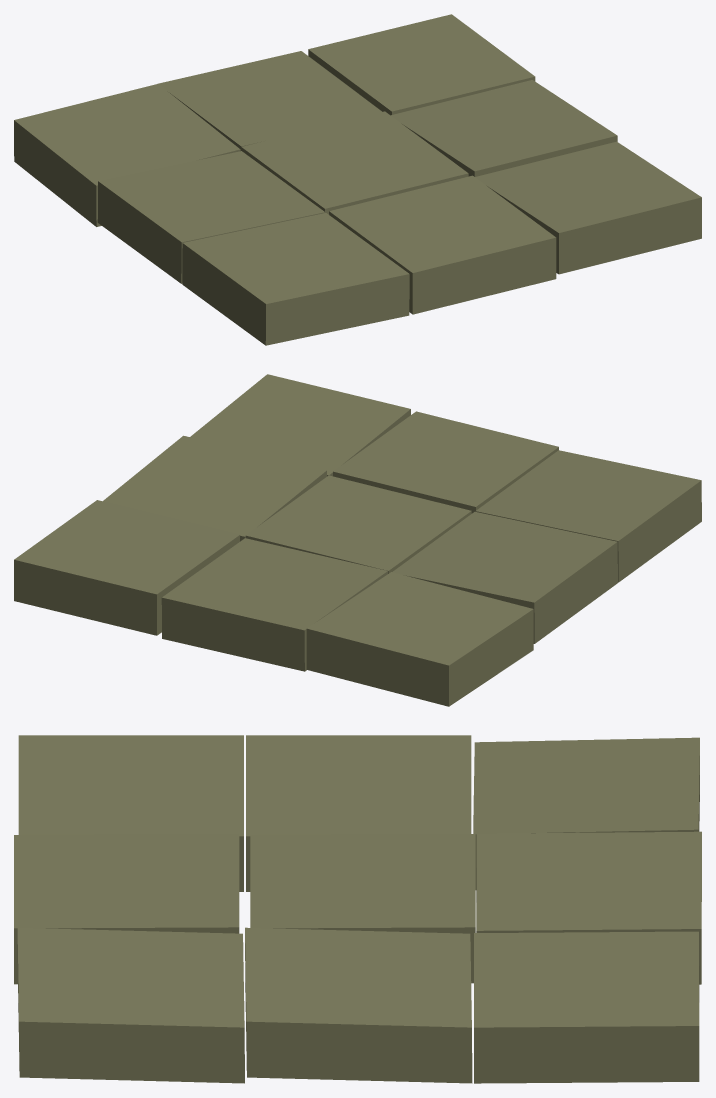
File: ground_tiles3x3.fbx
3 views of the same model, one above another, from view 1: azimuth 30°, elevation 25°; view 2: azimuth 150°, elevation 25°; view 3: azimuth 270°, elevation 25° (orthographic). The views are drawn at different scales.
Parts seen in each view (by area): view 1: quad31, quad32, quad33, quad11, quad21, quad13, quad22, quad23, quad12; view 2: quad11, quad13, quad12, quad21, quad31, quad32, quad23, quad22, quad33; view 3: quad13, quad33, quad23, quad21, quad31, quad12, quad22, quad32, quad11.
Boxes of the visible parts, left/top/right/bottom form: quad31: left=182, top=213, right=409, bottom=345; quad32: left=329, top=175, right=556, bottom=314; quad33: left=475, top=141, right=701, bottom=274; quad11: left=14, top=84, right=240, bottom=226; quad21: left=97, top=151, right=325, bottom=283; quad13: left=308, top=14, right=535, bottom=115; quad22: left=241, top=111, right=468, bottom=214; quad23: left=391, top=80, right=617, bottom=176; quad12: left=158, top=51, right=382, bottom=150; quad11: left=306, top=572, right=533, bottom=706; quad13: left=14, top=500, right=239, bottom=635; quad12: left=161, top=538, right=387, bottom=671; quad21: left=392, top=512, right=617, bottom=643; quad31: left=475, top=450, right=701, bottom=582; quad32: left=333, top=411, right=558, bottom=513; quad23: left=103, top=435, right=326, bottom=541; quad22: left=245, top=475, right=471, bottom=573; quad33: left=190, top=374, right=410, bottom=476; quad13: left=474, top=931, right=699, bottom=1083; quad33: left=17, top=927, right=244, bottom=1083; quad23: left=245, top=927, right=472, bottom=1083; quad21: left=246, top=735, right=471, bottom=891; quad31: left=18, top=735, right=243, bottom=891; quad12: left=476, top=831, right=701, bottom=984; quad22: left=250, top=834, right=475, bottom=983; quad32: left=14, top=834, right=239, bottom=984; quad11: left=473, top=737, right=699, bottom=889.
Size of the model in its own units: 5.06 by 0.5203 by 5.1.
